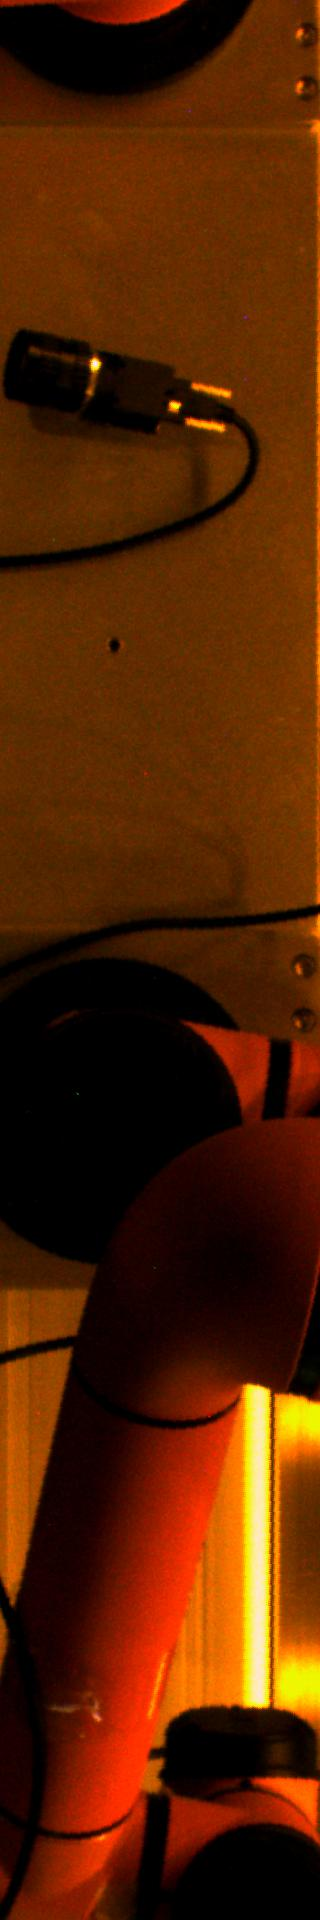keyPoint_2: (98, 631, 128, 661)
